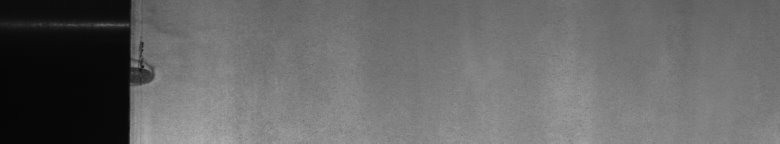hb: (140, 15, 179, 92)
